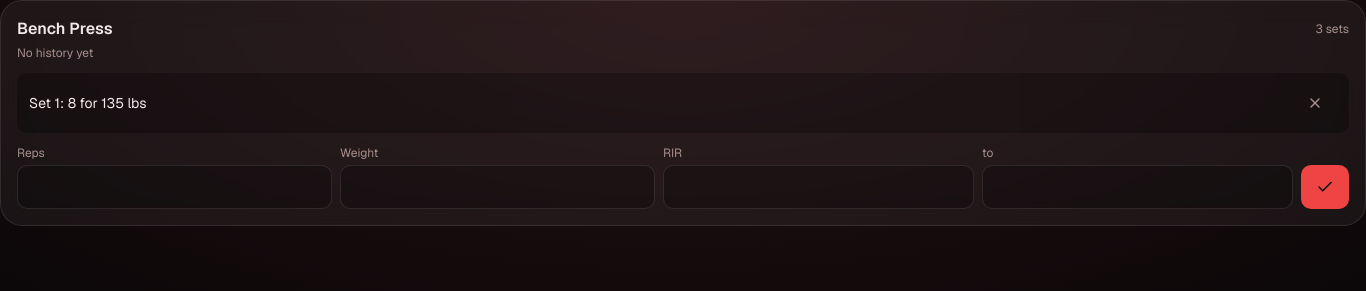
Scenario: editing a logged set › stays in editing mode when the values are invalid
This screenshot has width=1366, height=291.
Click the button with aria-label "Edit set 1" at (88, 103), box [29, 81, 147, 125]
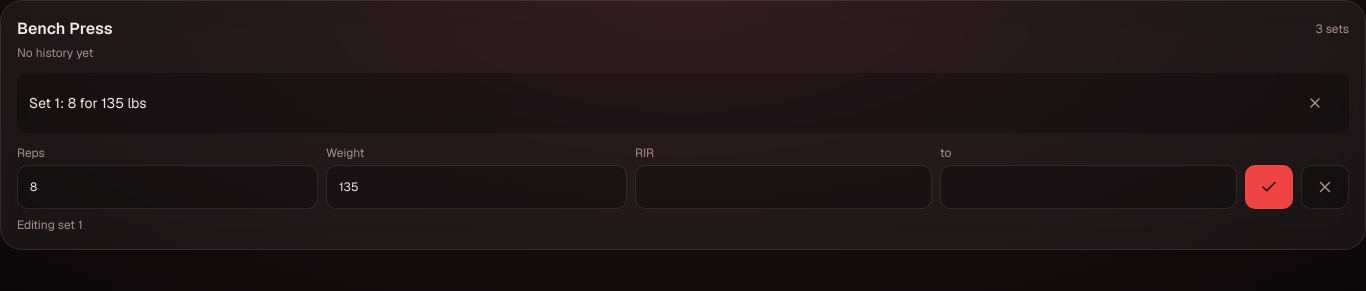
Replace the text in the field labelled "Reps" with "0" at (168, 187), box [17, 165, 318, 209]
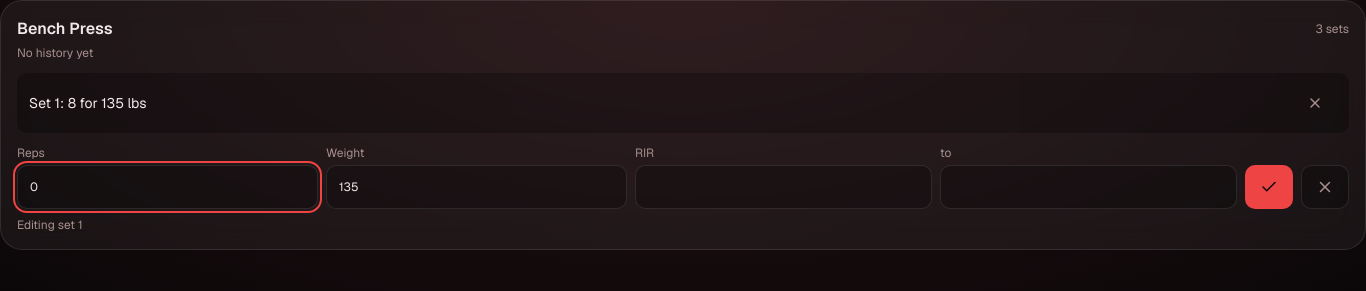
Click the button named "Save set" at (1269, 187), box [1245, 165, 1293, 209]
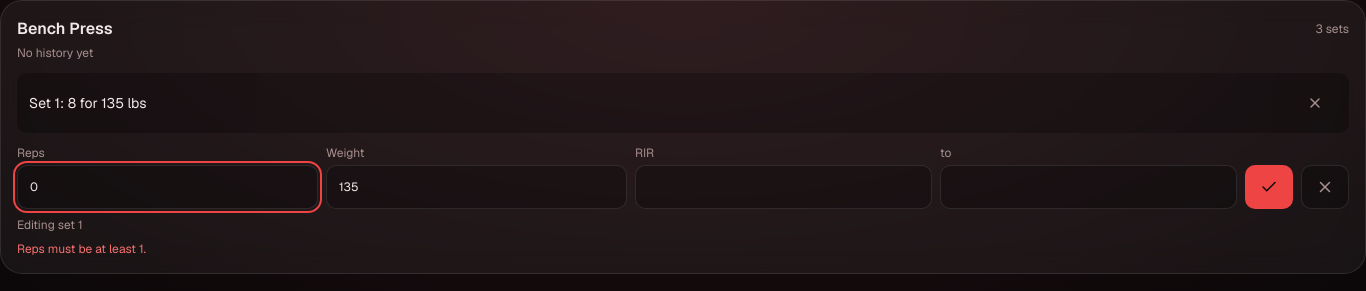
Result: the text "Editing set 1" is shown at [17, 217, 83, 233]
Result: the message reads "Reps must be at least 1." at [17, 241, 146, 257]
